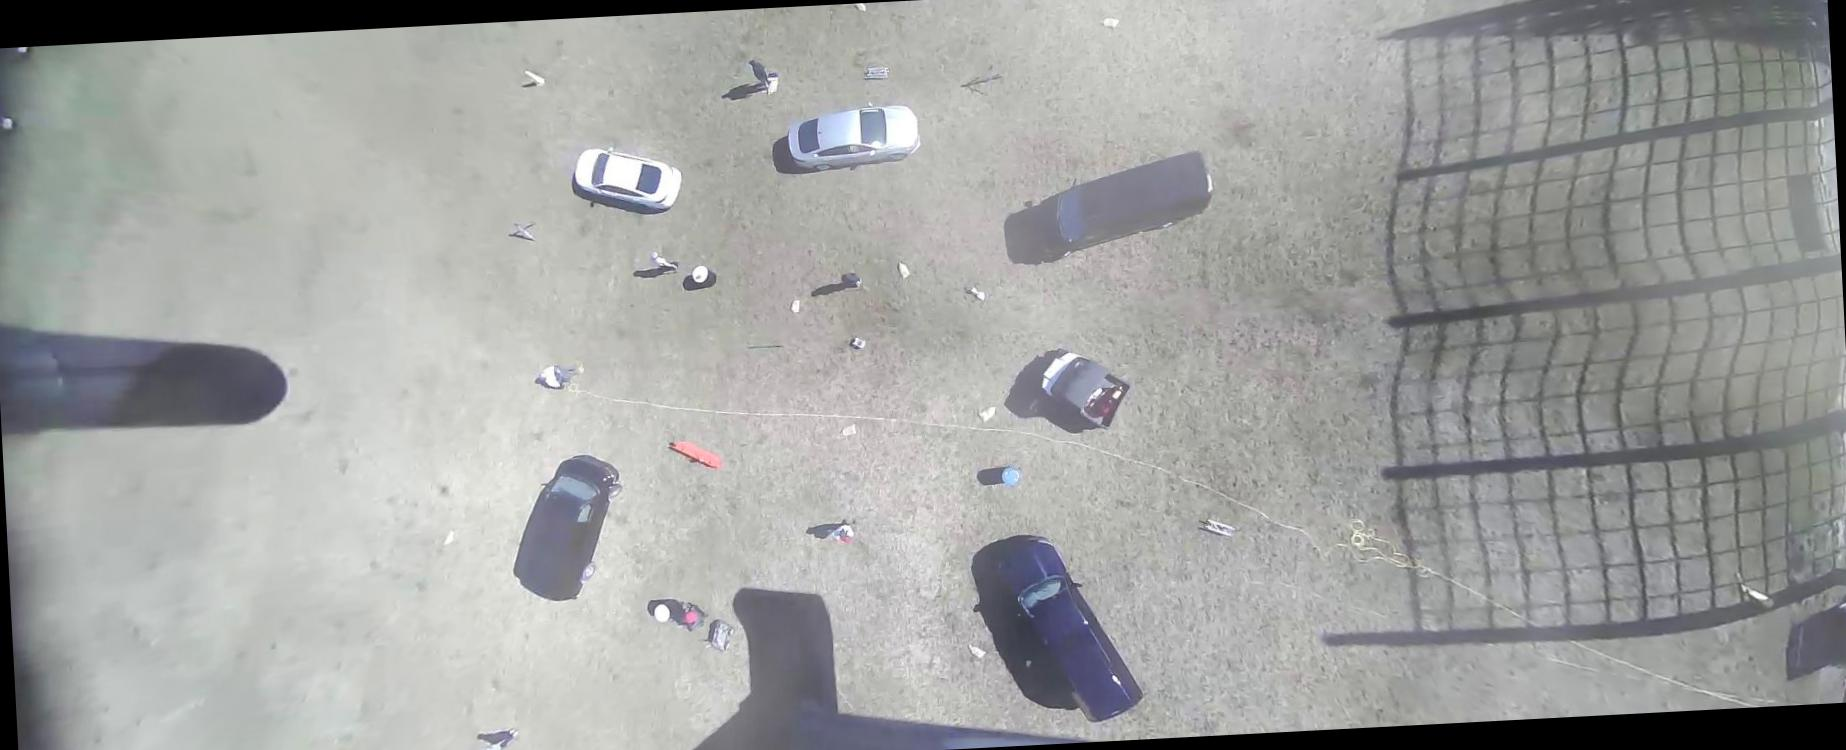vehicle: (992, 530, 1146, 726), (1036, 151, 1215, 259), (514, 453, 627, 603), (786, 99, 922, 173), (1040, 344, 1133, 434), (575, 142, 684, 214)
